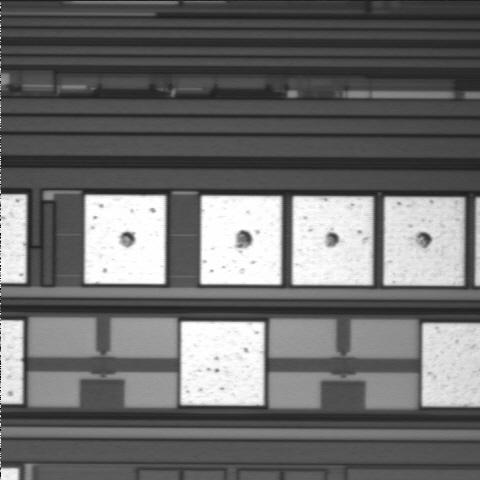pad: (84, 195, 166, 284), (200, 196, 282, 285), (292, 196, 373, 285), (384, 197, 464, 286), (181, 322, 264, 405)
